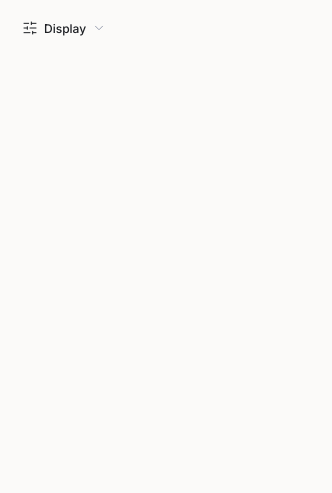
Test case: Reset display › is mounted and disabled at rest, so the panel cannot jump height
Press the mouse on the button with test id "display-trigger-canvas" at point(64, 28), box [12,12,116,44]
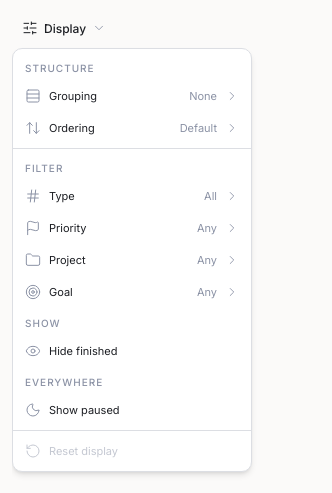
Expected: the menu item with test id "display-reset" is shown, [25,443,118,459]
